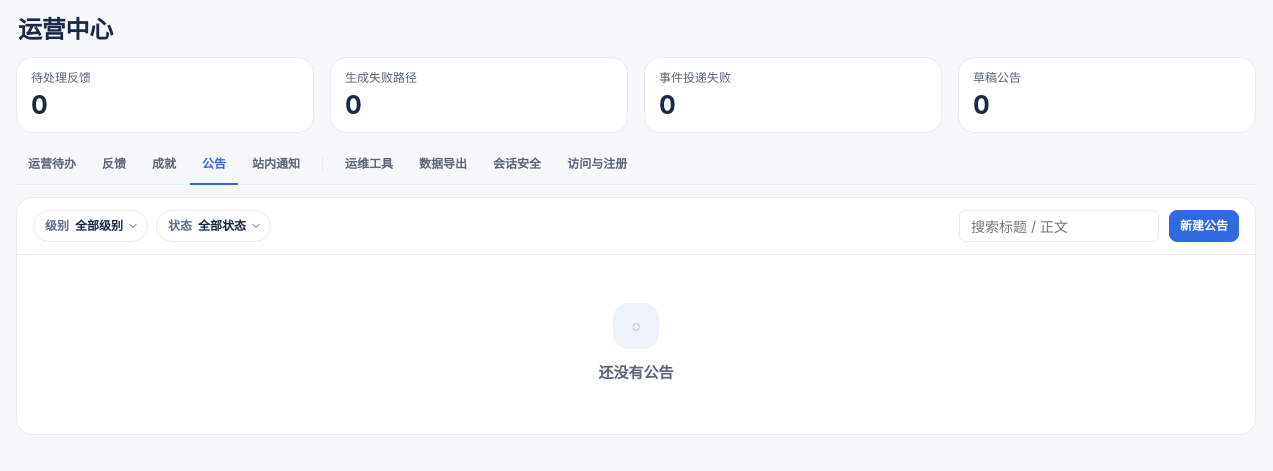
Test: 合并宿主页（导航收敛 2026-09-04） › OpsHub：深链 ?tab=announce 渲染 Announcements；切「站内通知」→ Notifications + ?tab=inapp
Expected: the panel is shown, x1=16 y1=197 x2=1256 y2=455
Click the tab with class "tab" showing "站内通知".
click(276, 165)  # box x1=240 y1=145 x2=312 y2=185
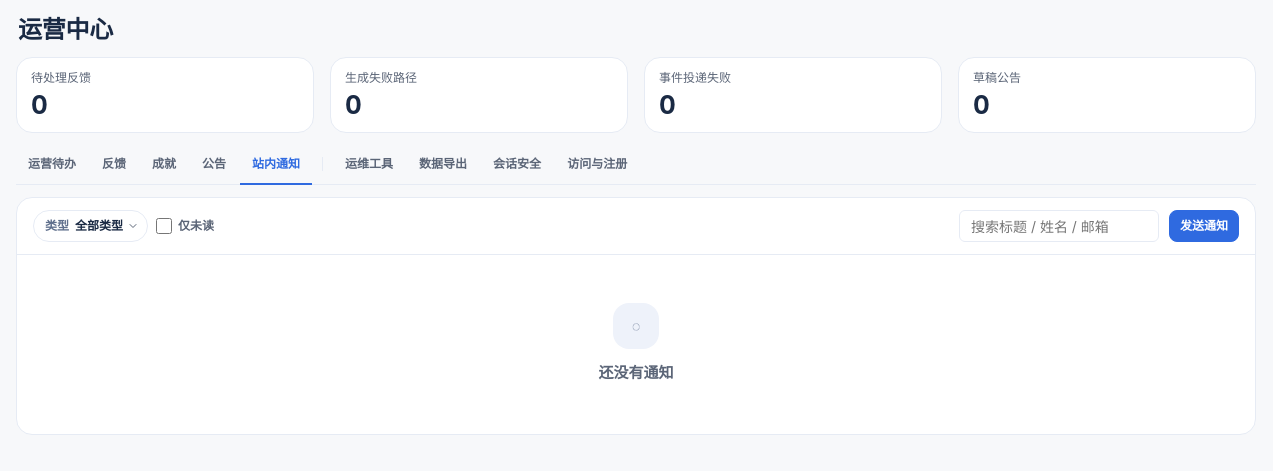
Expected: the panel is shown, x1=16 y1=197 x2=1256 y2=455
